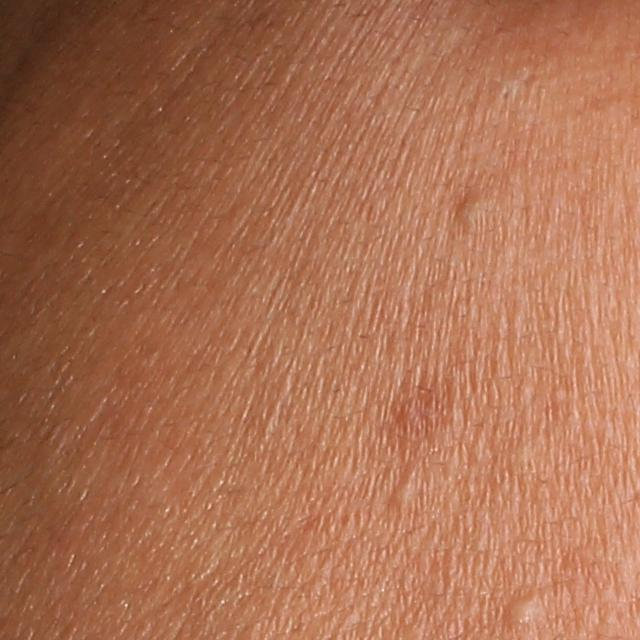comedo: (444, 185, 495, 233), (498, 593, 556, 631), (384, 478, 422, 511)
